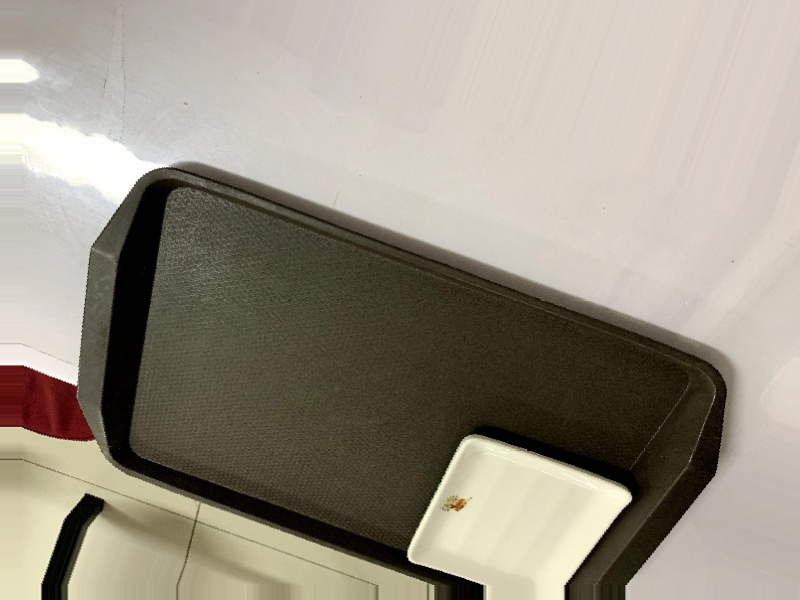dish4: (398, 413, 641, 599)
